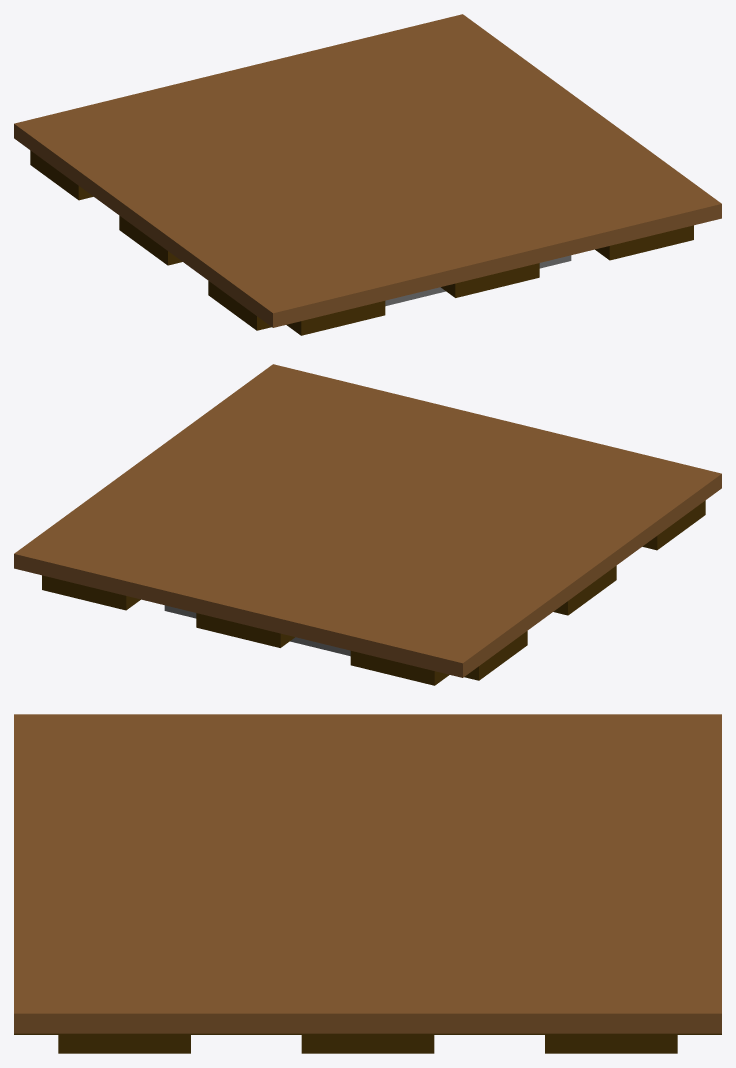
The model's file is GameAsset-5.obj.
The picture shows the model from 3 angles, top to bottom: view 1: azimuth 30°, elevation 25°; view 2: azimuth 150°, elevation 25°; view 3: azimuth 270°, elevation 25°; orthographic projection. The views are drawn at different scales.
Bounding box in the file's own units: 3.2 × 0.3 × 3.2.
1 material, 1 textured.
